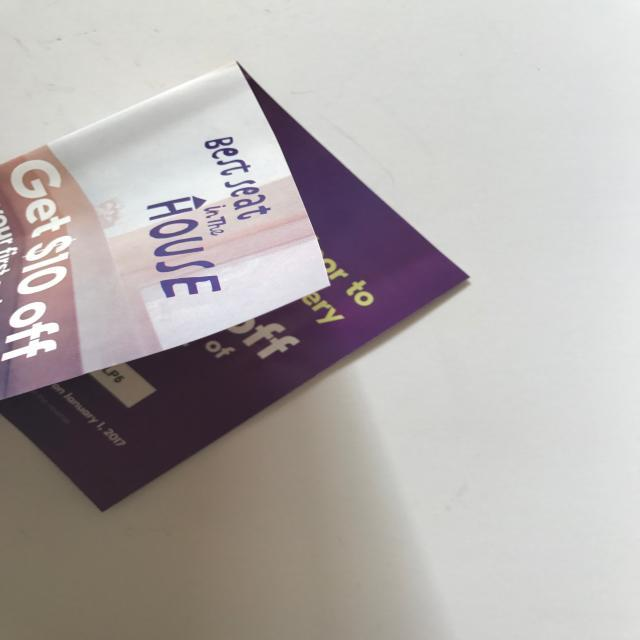paper: (2, 62, 474, 514)
